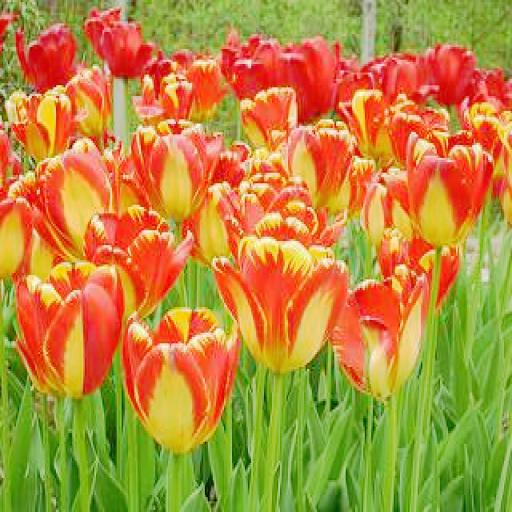tulip: (212, 234, 350, 376), (122, 305, 238, 457), (326, 266, 432, 396), (35, 262, 125, 395), (406, 130, 492, 250), (132, 118, 226, 216)
